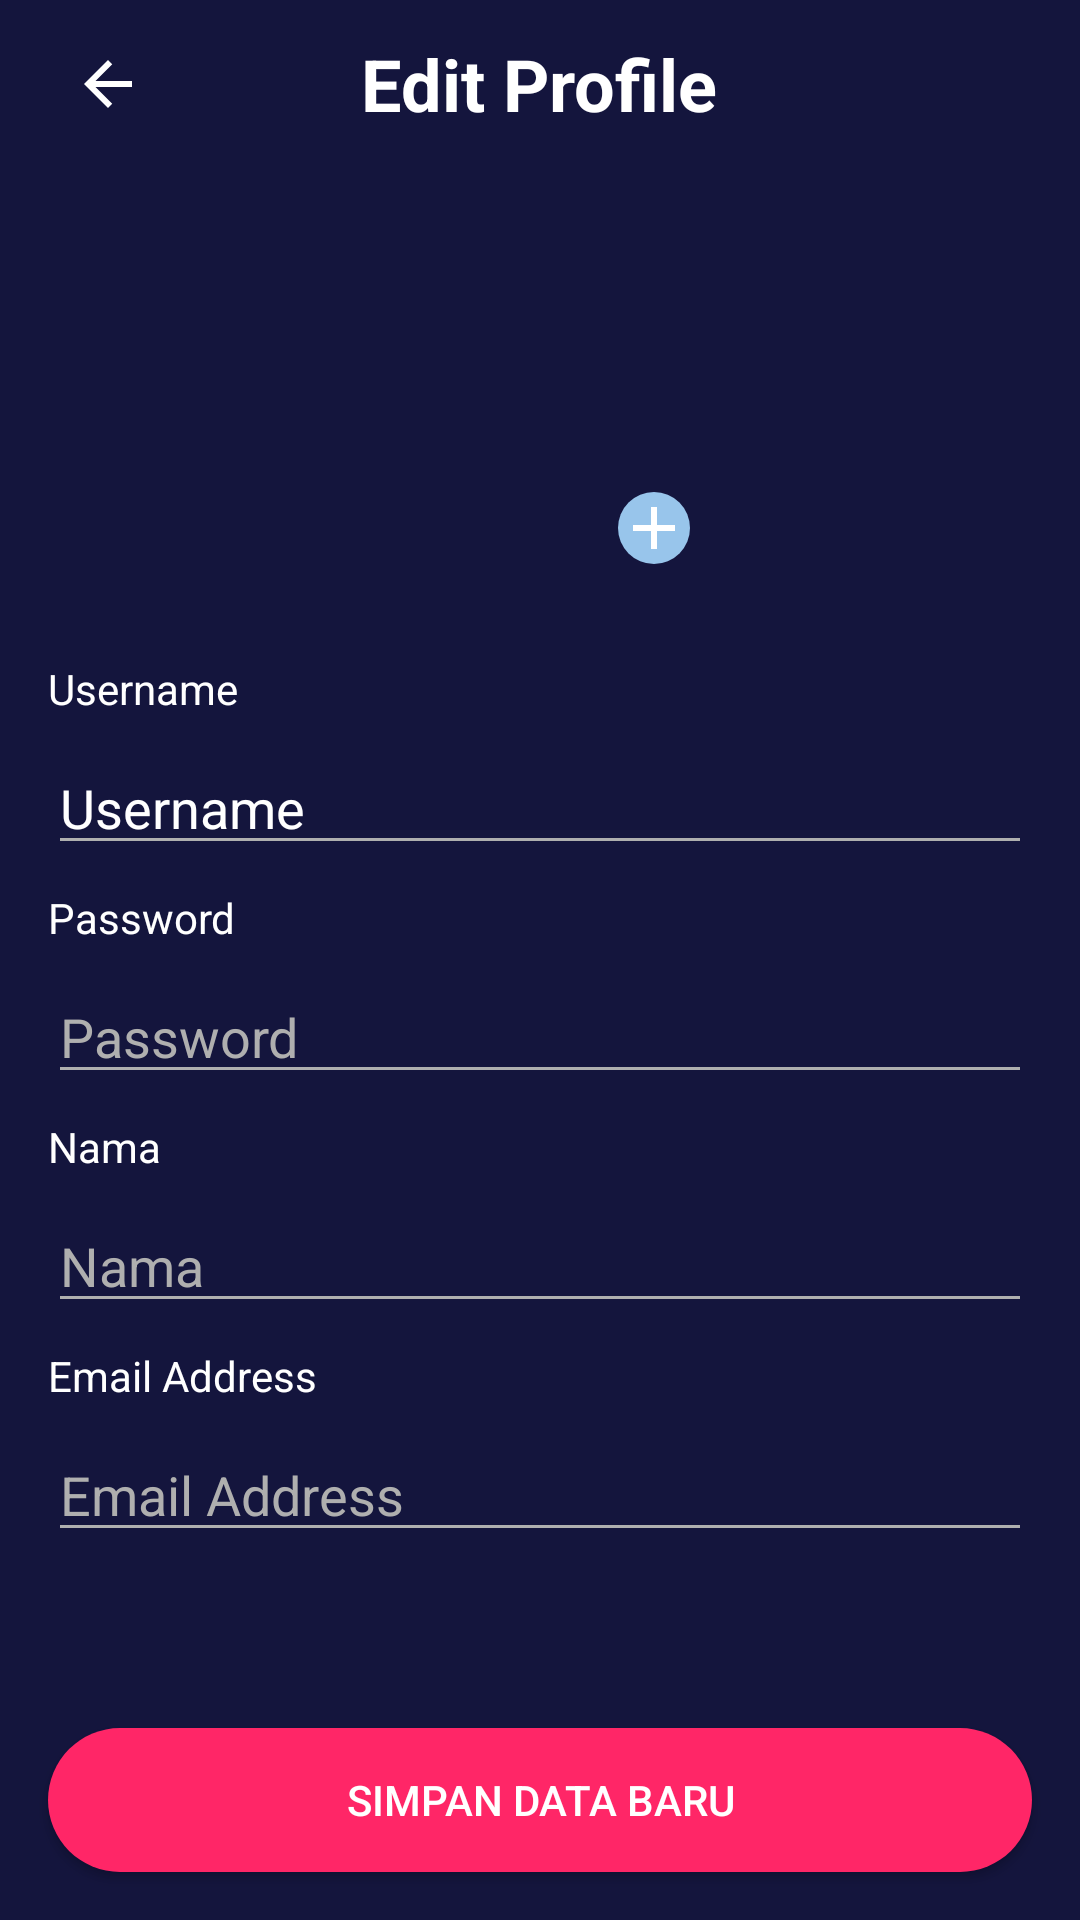

Named icons in this screenshot (1080px x 1920px) and their centers, [x,y]:
add upload: [654,528]
arrow left: [108,84]
